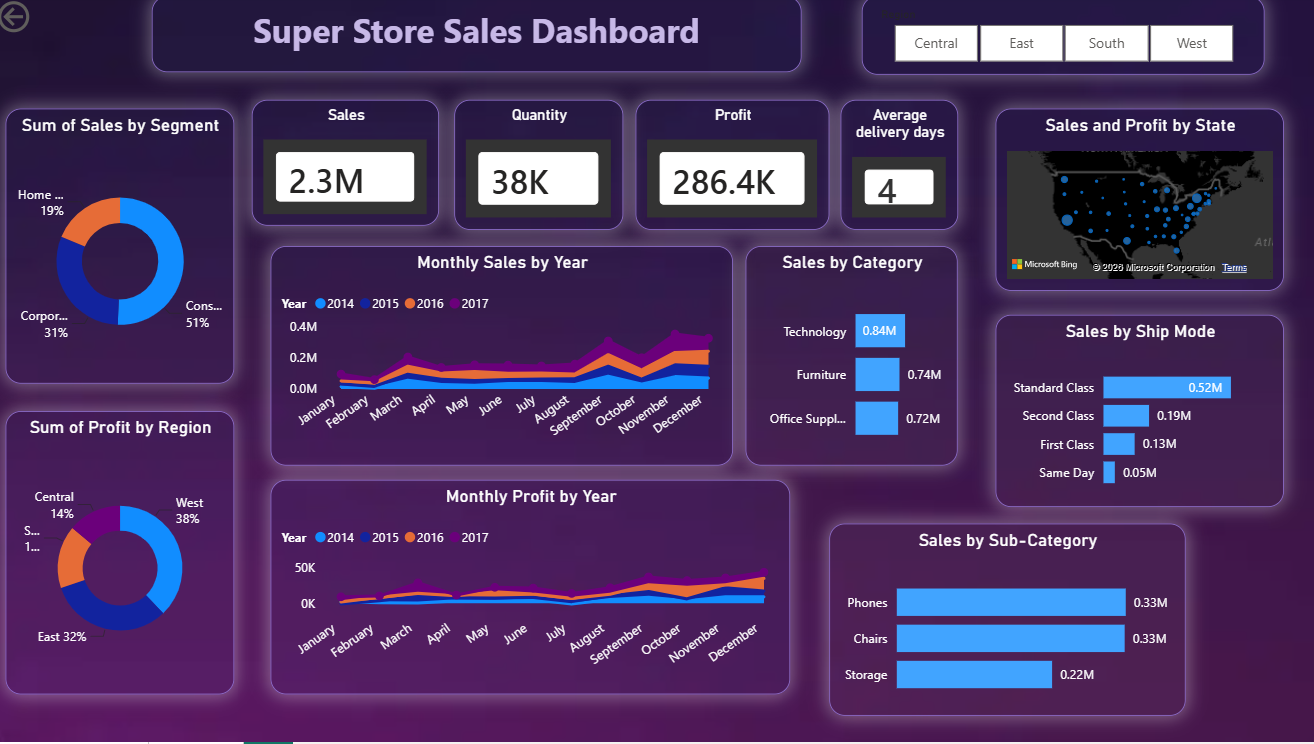

Layout of this report page (visuals, bound fields, positions):
{"tool":"powerbi","page":{"name":"Superstore Dashboard","canvas":[1280,720],"ordinal":0},"visuals":[{"type":"clusteredBarChart","title":"Sales by Category","fields":{"Category":["Sample - Superstore.Category"],"Y":["Sum(Sample - Superstore.Sales)"]},"box":[726.3,241.3,205.1,212.3],"z":0},{"type":"clusteredBarChart","title":"Sales by Sub-Category","fields":{"Category":["Sample - Superstore.Sub-Category"],"Y":["Sum(Sample - Superstore.Sales)"]},"box":[807.1,509.1,343.8,185.8],"z":1000},{"type":"clusteredBarChart","title":"Sales by Ship Mode","fields":{"Category":["Sample - Superstore.Ship Mode"],"Y":["Sum(Sample - Superstore.Sales)"]},"box":[967.6,307.6,278.7,185.8],"z":2000},{"type":"actionButton","box":[0,0,100,40],"z":3000},{"type":"stackedAreaChart","title":"Monthly Sales by Year","fields":{"Category":["Sample - Superstore.Order Date.Variation.Date Hierarchy.Month"],"Y":["Sum(Sample - Superstore.Sales)"],"Series":["Sample - Superstore.Order Date.Variation.Date Hierarchy.Year"]},"box":[267.8,241.3,446.4,212.3],"z":4000},{"type":"stackedAreaChart","title":" Monthly Profit by Year ","fields":{"Category":["Sample - Superstore.Order Date.Variation.Date Hierarchy.Month"],"Series":["Sample - Superstore.Order Date.Variation.Date Hierarchy.Year"],"Y":["Sum(Sample - Superstore.Profit)"]},"box":[267.8,466.9,501.9,207.5],"z":5000},{"type":"donutChart","fields":{"Category":["Sample - Superstore.Segment"],"Y":["Sum(Sample - Superstore.Sales)"]},"box":[12.1,108.6,220.8,265.4],"z":7000},{"type":"donutChart","fields":{"Y":["Sum(Sample - Superstore.Profit)"],"Category":["Sample - Superstore.Region"]},"box":[12.1,400.5,220.8,273.9],"z":8000},{"type":"slicer","fields":{"Values":["Sample - Superstore.Region"]},"box":[838.5,0,388.5,76],"z":9000},{"type":"textbox","box":[153.2,0,627.3,73.6],"z":10000},{"type":"cardVisual","title":"Sales","fields":{"Data":["Sum(Sample - Superstore.Sales)"]},"box":[249.7,100.1,181,121.9],"z":11000},{"type":"cardVisual","title":"Quantity","fields":{"Data":["Sum(Sample - Superstore.Quantity)"]},"box":[445.2,100.1,162.9,125.5],"z":12000},{"type":"cardVisual","title":"Profit","fields":{"Data":["Sum(Sample - Superstore.Profit)"]},"box":[620.1,100.1,187,125.5],"z":13000},{"type":"cardVisual","title":"Average delivery days","fields":{"Data":["Avg(Sample - Superstore.AvgDelivery)"]},"box":[818,100.1,113.4,125.5],"z":14000},{"type":"map","title":"Sales and Profit by State","fields":{"Category":["Sample - Superstore.State"],"Size":["Sum(Sample - Superstore.Sales)"]},"box":[967.6,108.6,278.7,176.1],"z":14001}]}

Visuals, with their boxes in screenshot pixels (x1, y1, x2, y2), scaled from the page's 1280x720 canvas onto the 1314x744 screenshot:
"Sales by Category" clusteredBarChart: bbox(746, 249, 956, 469)
"Sales by Sub-Category" clusteredBarChart: bbox(829, 526, 1181, 718)
"Sales by Ship Mode" clusteredBarChart: bbox(993, 318, 1279, 510)
actionButton: bbox(0, 0, 103, 41)
"Monthly Sales by Year" stackedAreaChart: bbox(275, 249, 733, 469)
" Monthly Profit by Year " stackedAreaChart: bbox(275, 482, 790, 697)
donutChart - Sample - Superstore.Segment x Sum(Sample - Superstore.Sales): bbox(12, 112, 239, 386)
donutChart - Sum(Sample - Superstore.Profit) x Sample - Superstore.Region: bbox(12, 414, 239, 697)
slicer - Sample - Superstore.Region: bbox(861, 0, 1260, 79)
textbox: bbox(157, 0, 801, 76)
"Sales" cardVisual: bbox(256, 103, 442, 229)
"Quantity" cardVisual: bbox(457, 103, 624, 233)
"Profit" cardVisual: bbox(637, 103, 829, 233)
"Average delivery days" cardVisual: bbox(840, 103, 956, 233)
"Sales and Profit by State" map: bbox(993, 112, 1279, 294)
